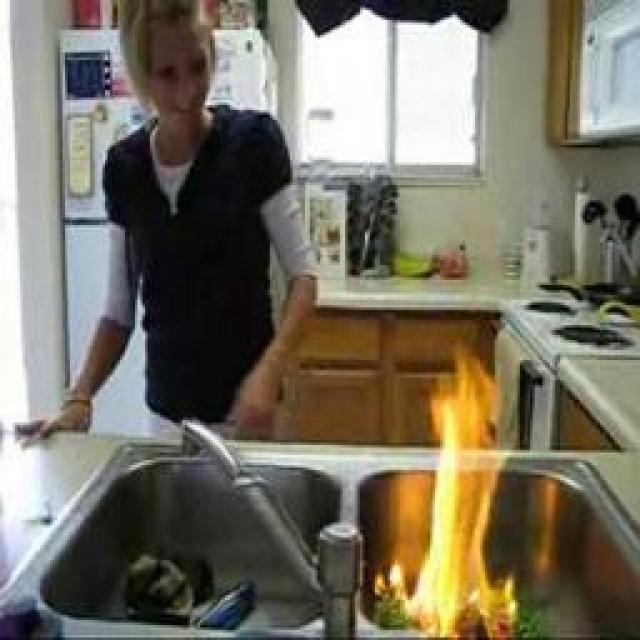Fire: (389, 340, 517, 635)
